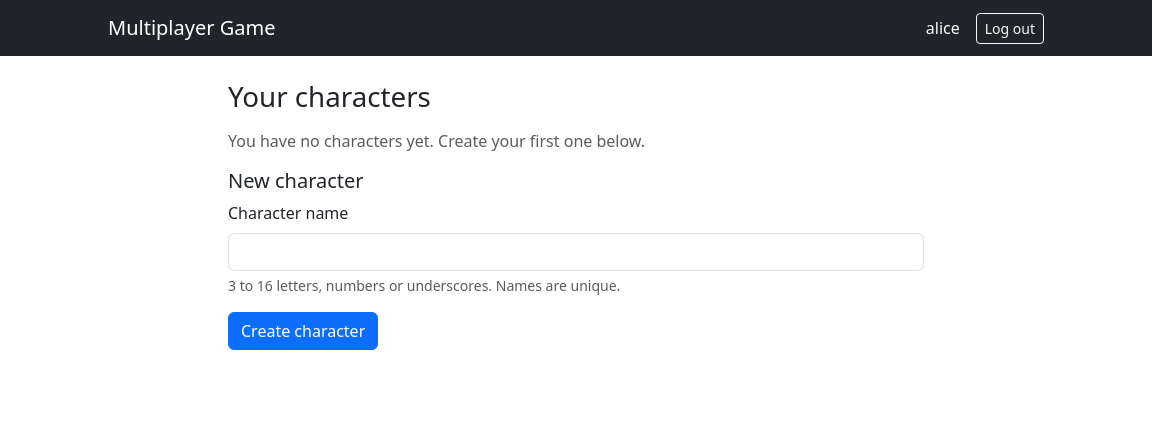
Test: logging out sends the user to the login page
Click the button "Log out" at (1010, 28), box [976, 12, 1044, 44]
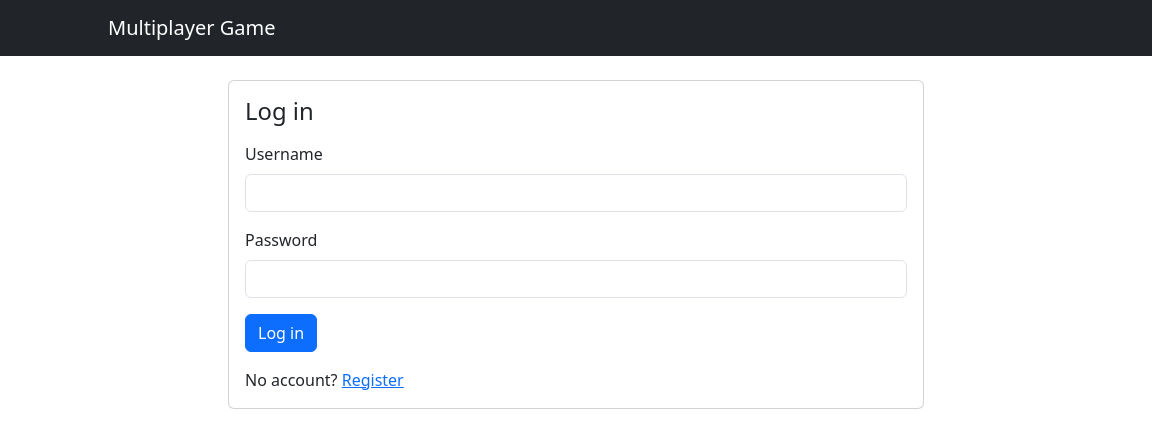
Now the heading "Log in" is shown, box [245, 95, 314, 127]
